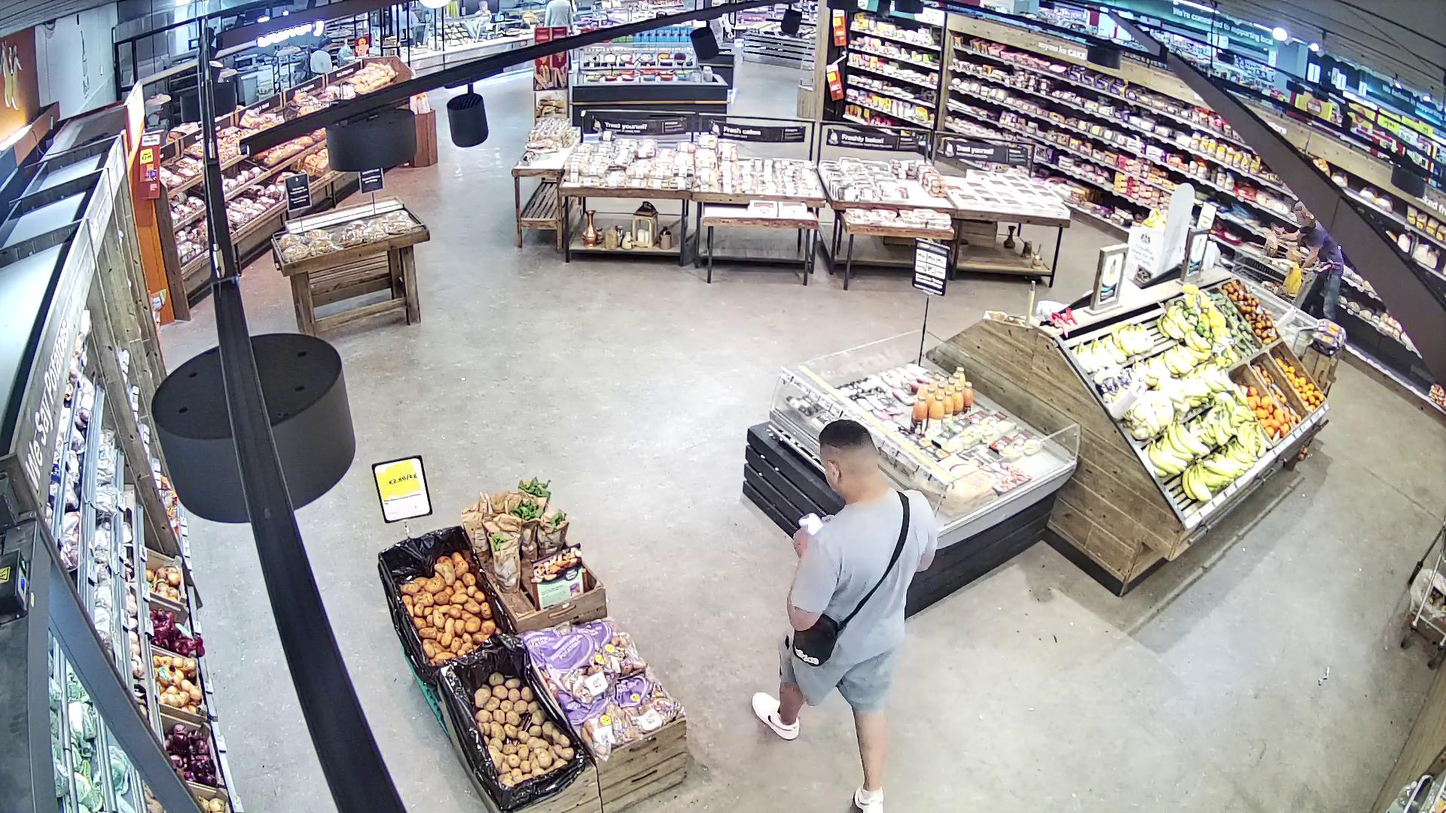backpack-or-handbag: (792, 613, 840, 668)
person: (752, 419, 938, 813)
person-with-backpack-handbag: (751, 418, 938, 813)
